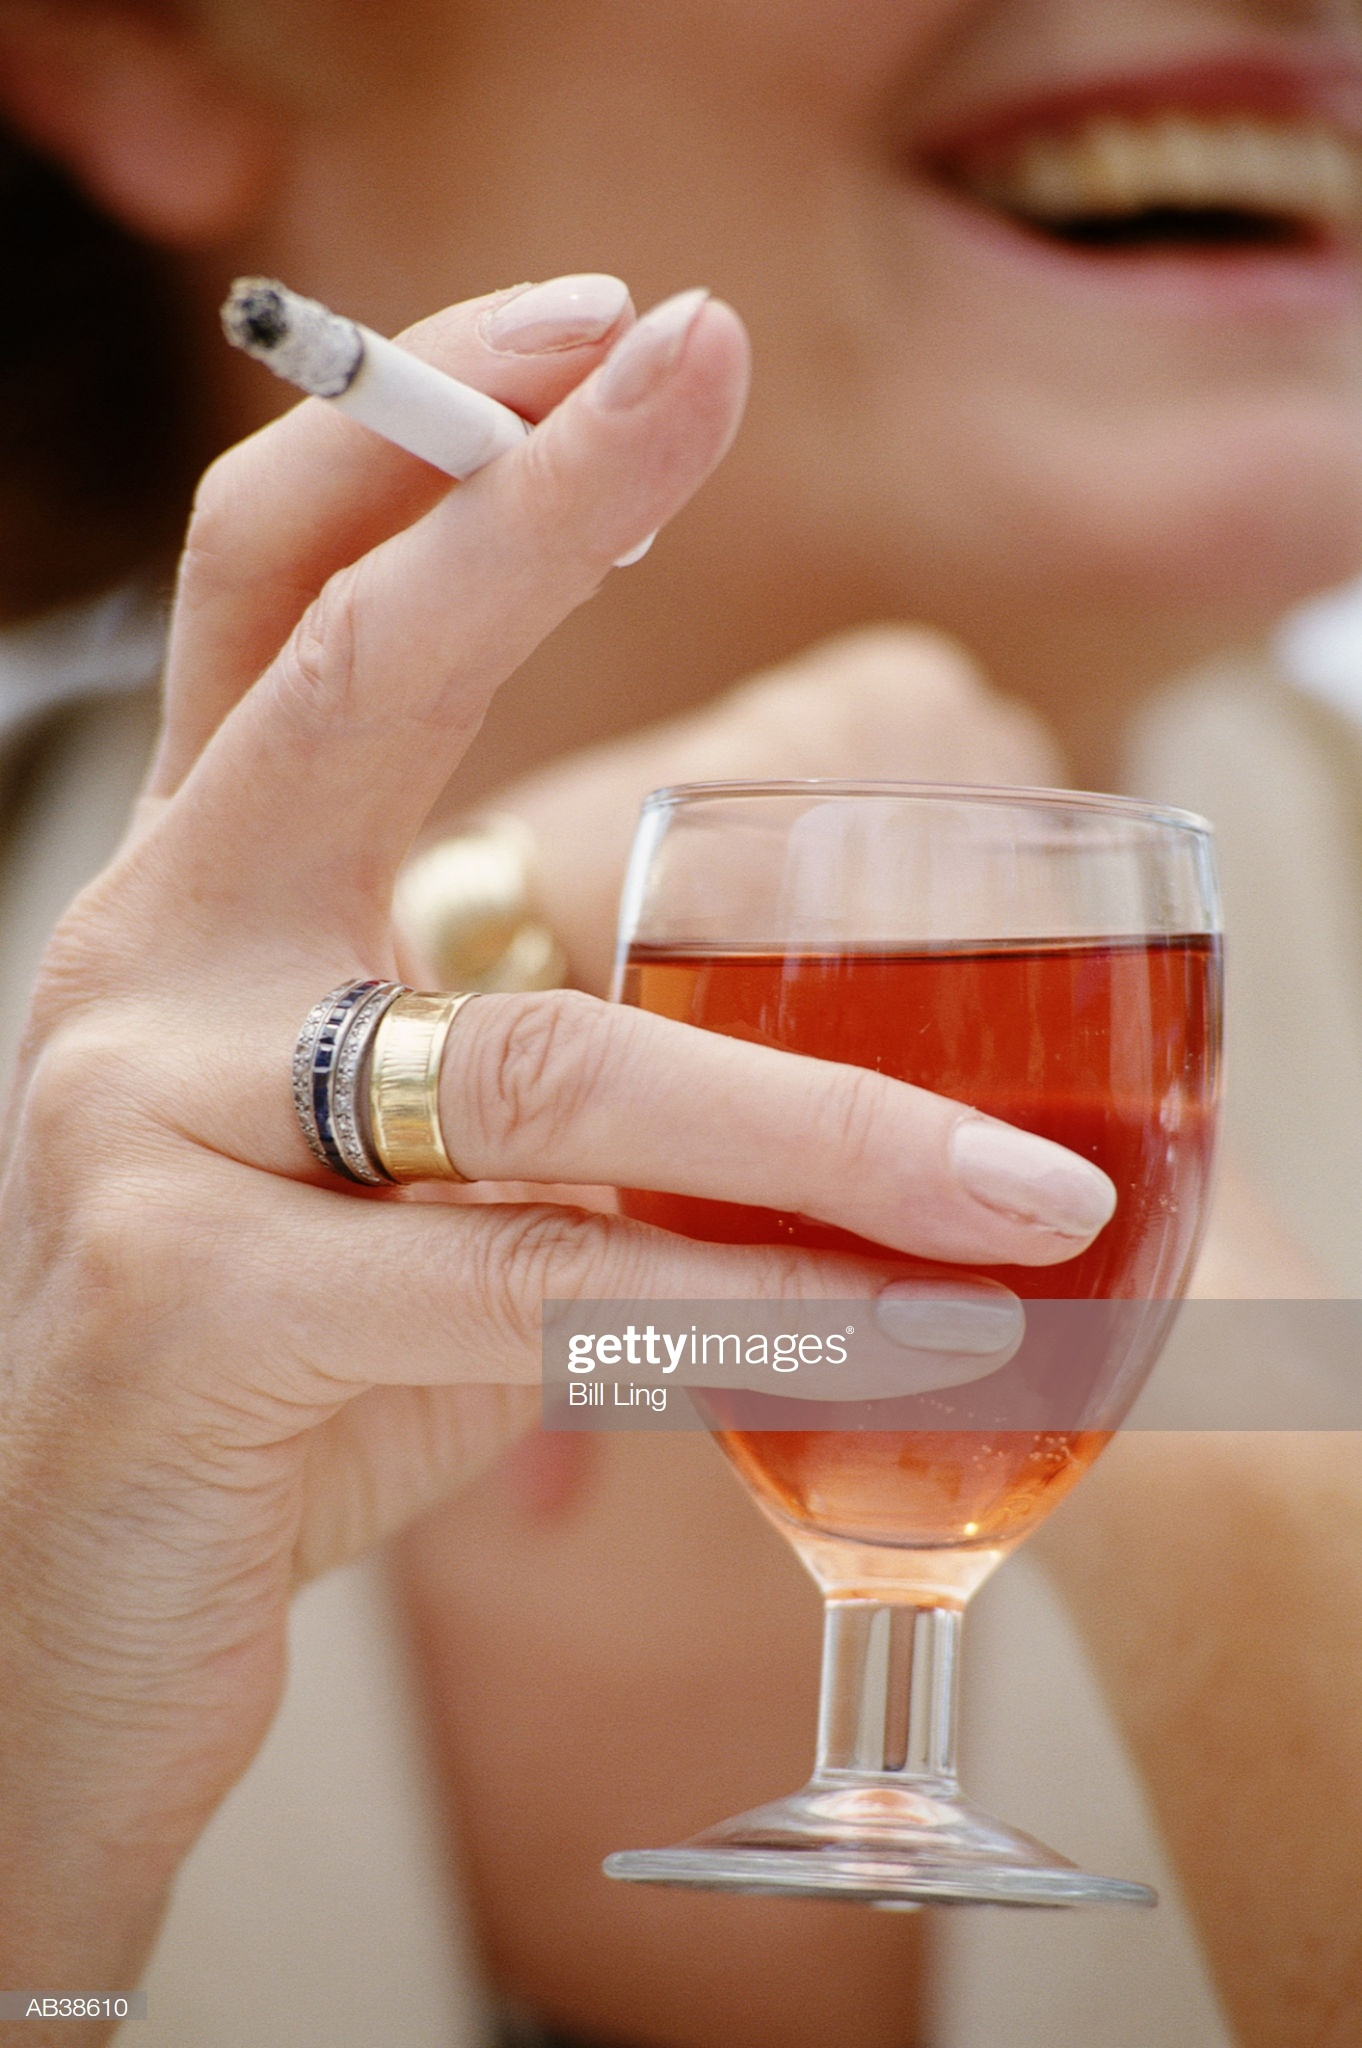sigaretta: (242, 289, 670, 552)
